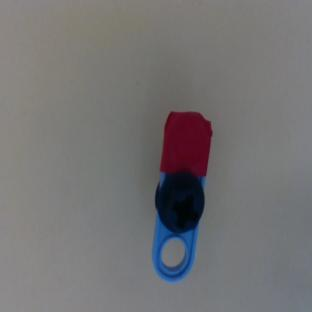part_1_good: (146, 109, 214, 284)
